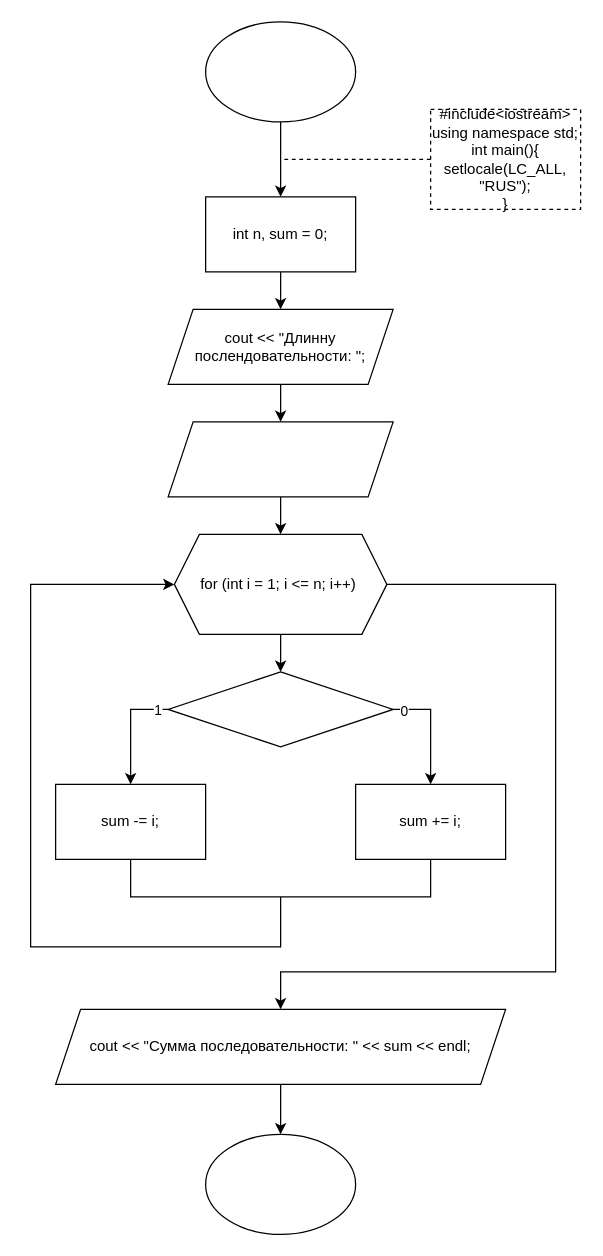
The diagram is 603 pixels wide and 1256 high, and some of its shapes have lost their labels. Here are the shapes that lost their labels. From the top down, the centre of each, then its label:
the point at 280,71: Начало
the point at 280,459: cin >> n;
the point at 280,709: if (i % 3 == 0)
the point at 280,1183: Конец
